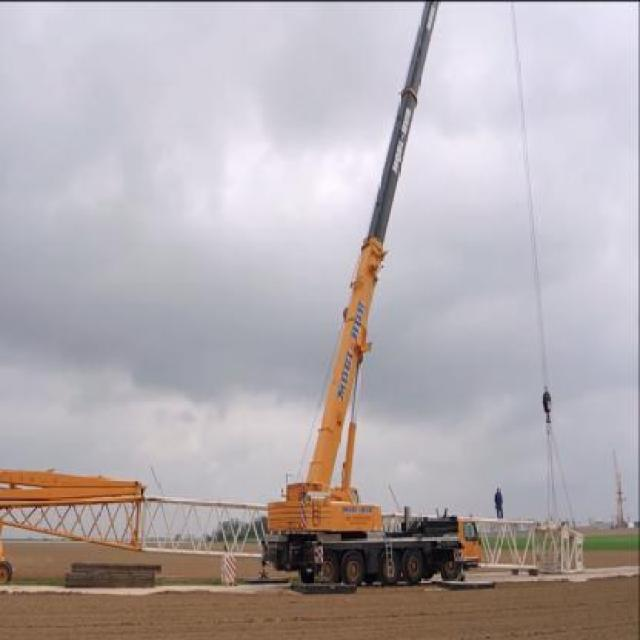Mobile Crane: (260, 0, 480, 591)
